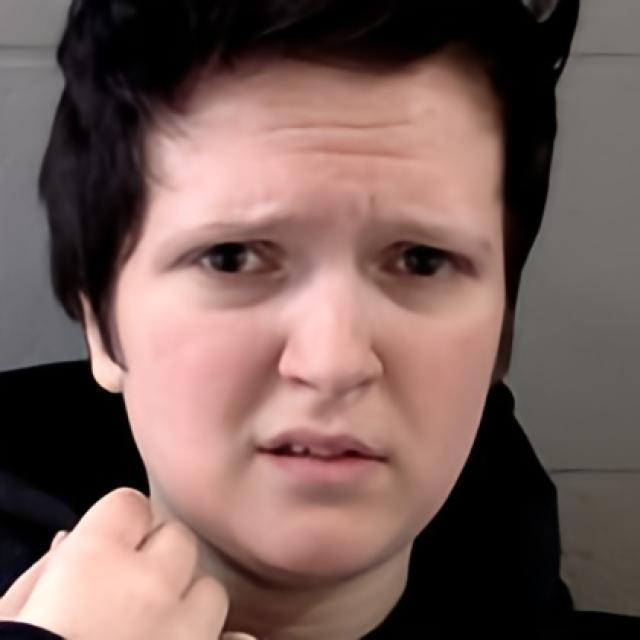disgust: (118, 42, 508, 576)
